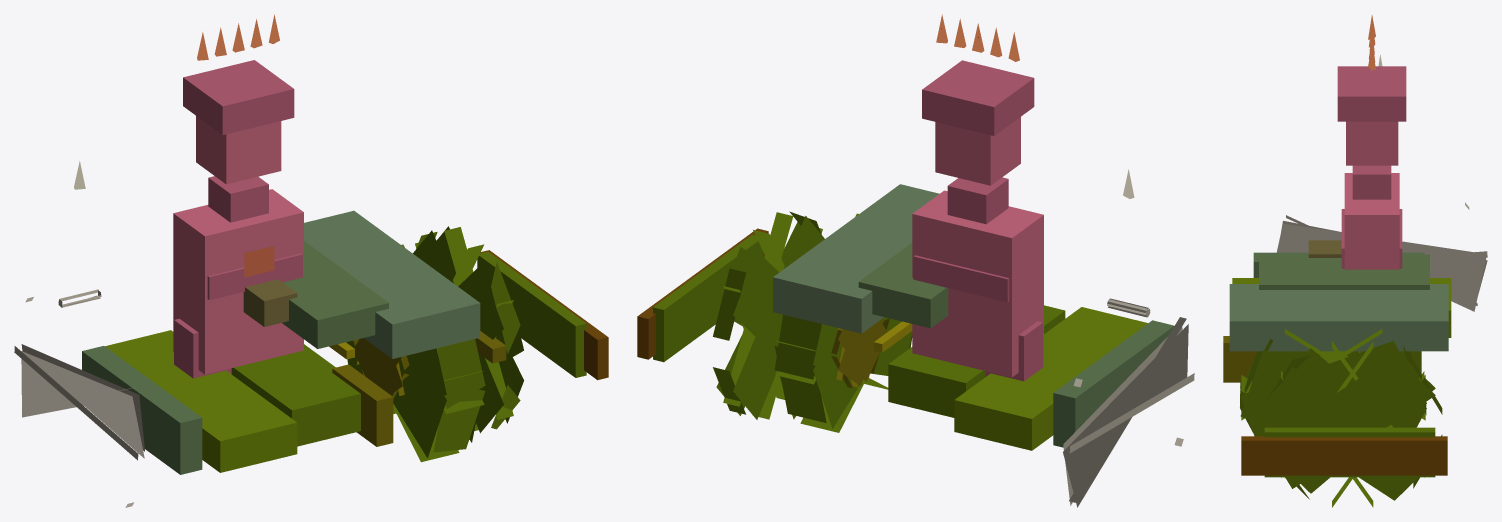
Rendered from takeda-03.glb.
3 renders of one model, left to right at view 1: azimuth 30°, elevation 25°; view 2: azimuth 150°, elevation 25°; view 3: azimuth 270°, elevation 25°, orthographic. The views are drawn at different scales.
Parts seen in each view (by area): view 1: samurai; view 2: samurai; view 3: samurai.
Part boxes in pixels (x1,y1,x2,y2): samurai: (14,14,608,507); samurai: (637,14,1194,507); samurai: (1223,15,1487,507).
Size of the model in its own units: 1.7 by 1.54 by 0.9598.
